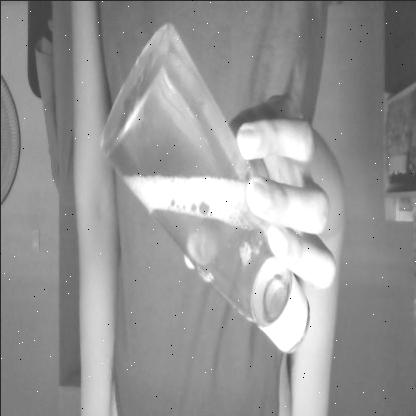Plastic Bottle: (96, 26, 314, 353)
